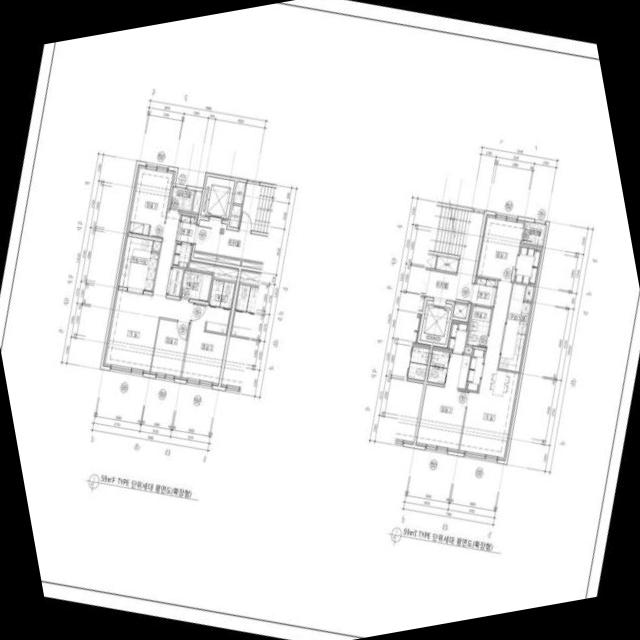background: (0, 0, 640, 640)
space_bedroom: (181, 303, 226, 386), (126, 164, 175, 238), (415, 384, 468, 452), (476, 214, 525, 281), (150, 319, 189, 379)
space_dressroom: (514, 244, 542, 285), (444, 352, 470, 389), (447, 320, 468, 352)
space_elevator: (200, 176, 234, 220), (420, 300, 452, 344)
space_elevator_hall: (420, 211, 484, 303), (194, 219, 268, 262)
space_front: (471, 276, 497, 306), (177, 212, 198, 243)
space_kitchen: (498, 283, 532, 372), (117, 236, 158, 292)
space_living_room: (103, 209, 193, 373), (458, 280, 520, 460)
space_other: (189, 260, 238, 281), (466, 348, 485, 391), (193, 252, 240, 265), (172, 242, 192, 268), (168, 267, 183, 296), (435, 256, 458, 273), (233, 181, 245, 204), (229, 205, 241, 227), (452, 303, 468, 318), (192, 191, 202, 213), (241, 261, 262, 269), (425, 254, 436, 269), (524, 286, 535, 301), (152, 241, 160, 251), (464, 346, 472, 354)
space_outdoor_room: (170, 187, 194, 211), (523, 221, 546, 246)
space_staircase: (428, 205, 470, 256), (239, 183, 276, 233)
space_toilet: (205, 279, 234, 333), (466, 305, 492, 348), (180, 270, 212, 301), (430, 349, 449, 368), (427, 366, 446, 384)
